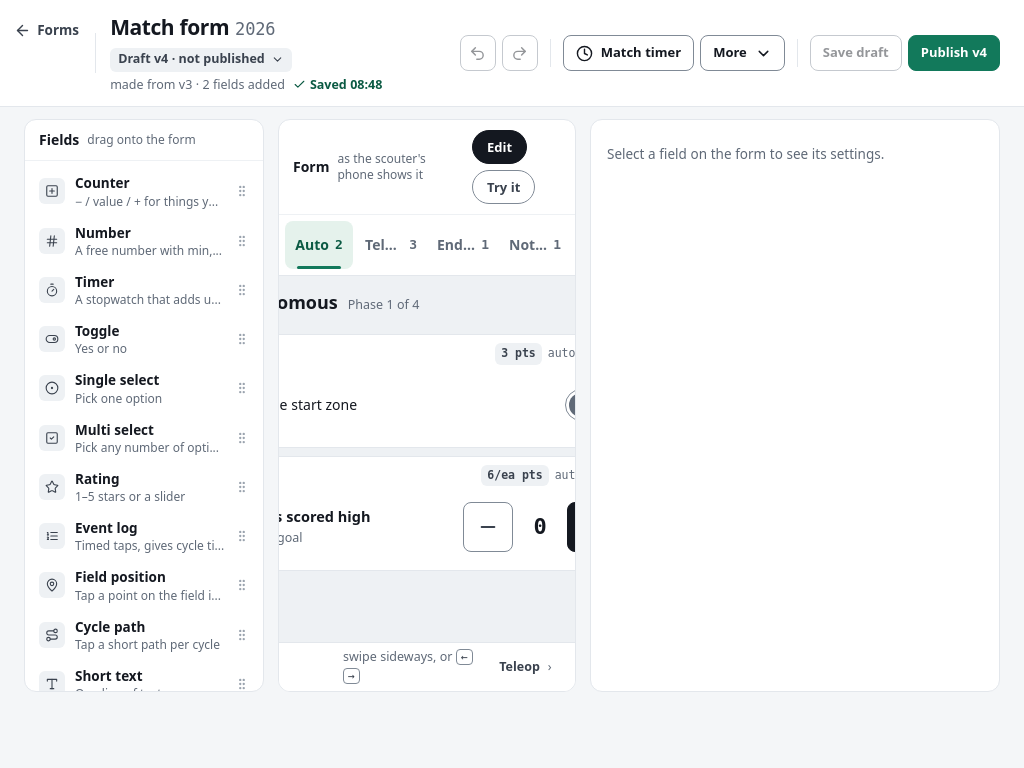
Test case: BuilderPage: the three panes (task 1.29) › changes phase with ← and → on the canvas, and the foot names the phases either side
The width and height of the screenshot is (1024, 768).
Check: the element "Form" is shown, box [278,119,576,692]
Click the button with aria-label "Next phase: Teleop".
click(525, 667)  # box [491,647,559,687]
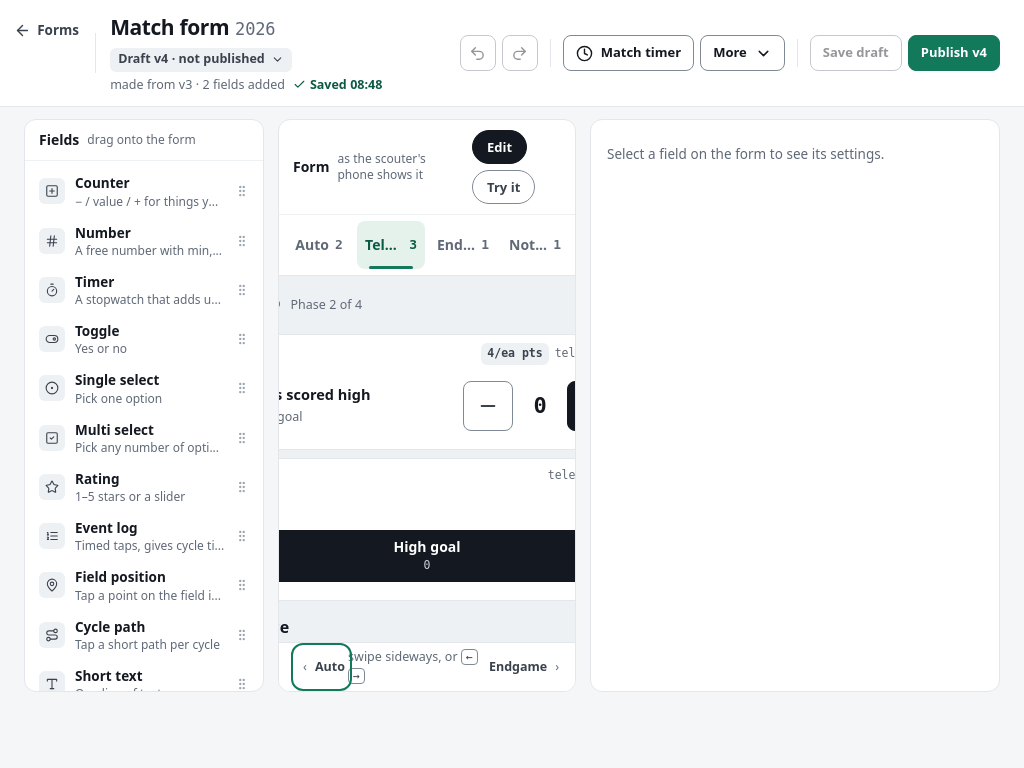
Check: the text "Phase 2 of 4" is shown, box [290,296,362,315]
Press Arrowright
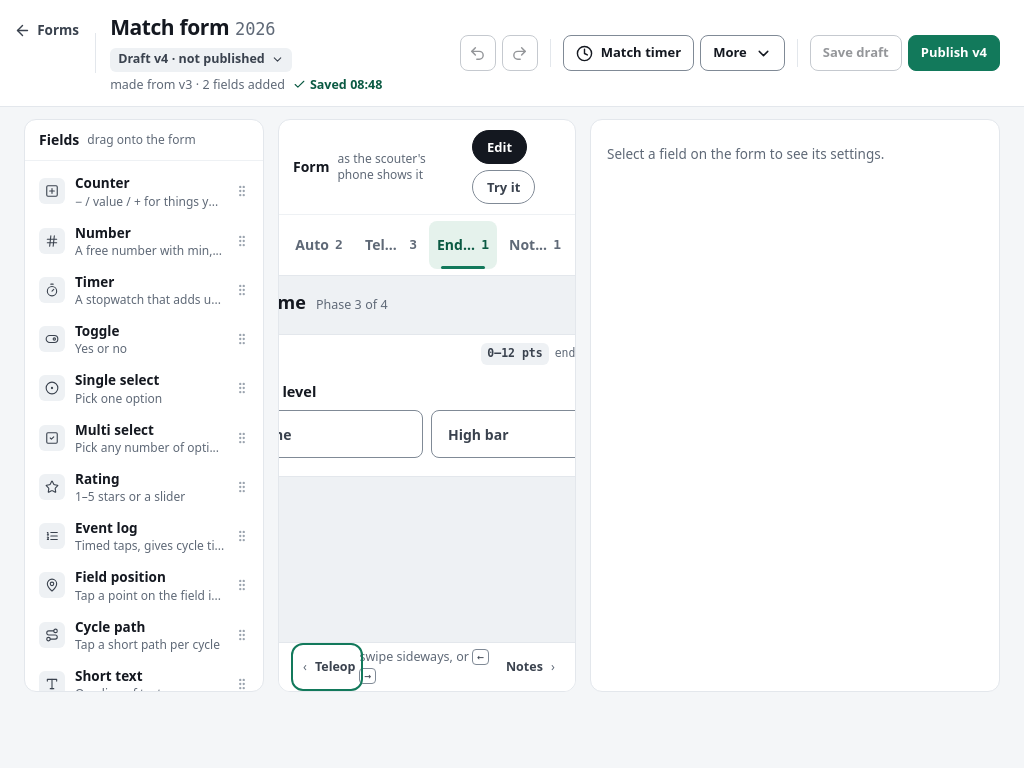
Check: the text "Phase 3 of 4" is shown, box [316,296,388,315]
Check: the text "0–12 pts" is shown, box [481,343,549,365]
